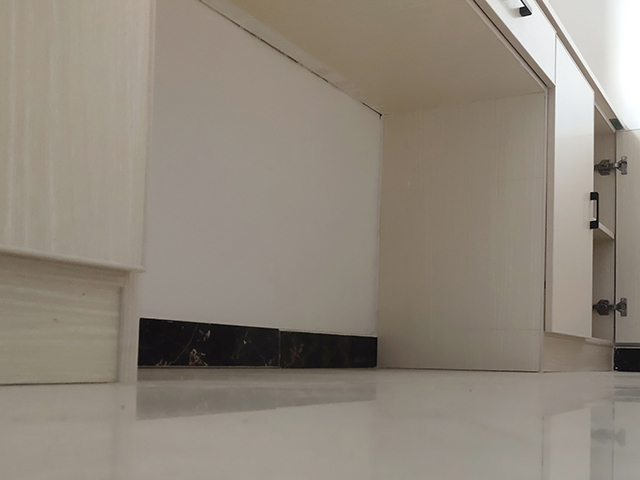cabinet: (499, 2, 640, 376)
